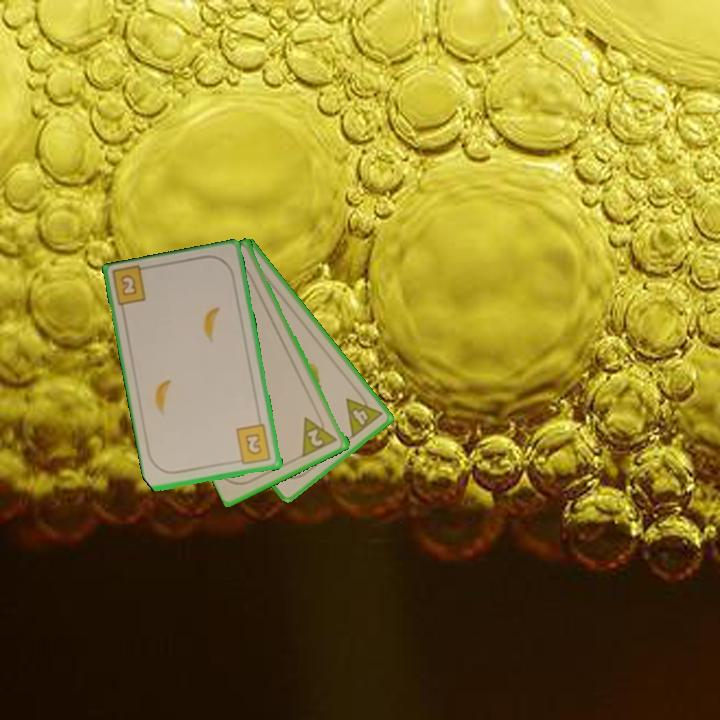2b: (232, 421, 274, 468), (117, 271, 140, 299)
2p: (299, 409, 341, 460)
4p: (342, 386, 385, 441)
